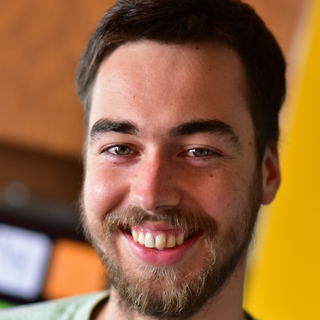eye: (176, 141, 224, 165), (97, 139, 140, 163)
